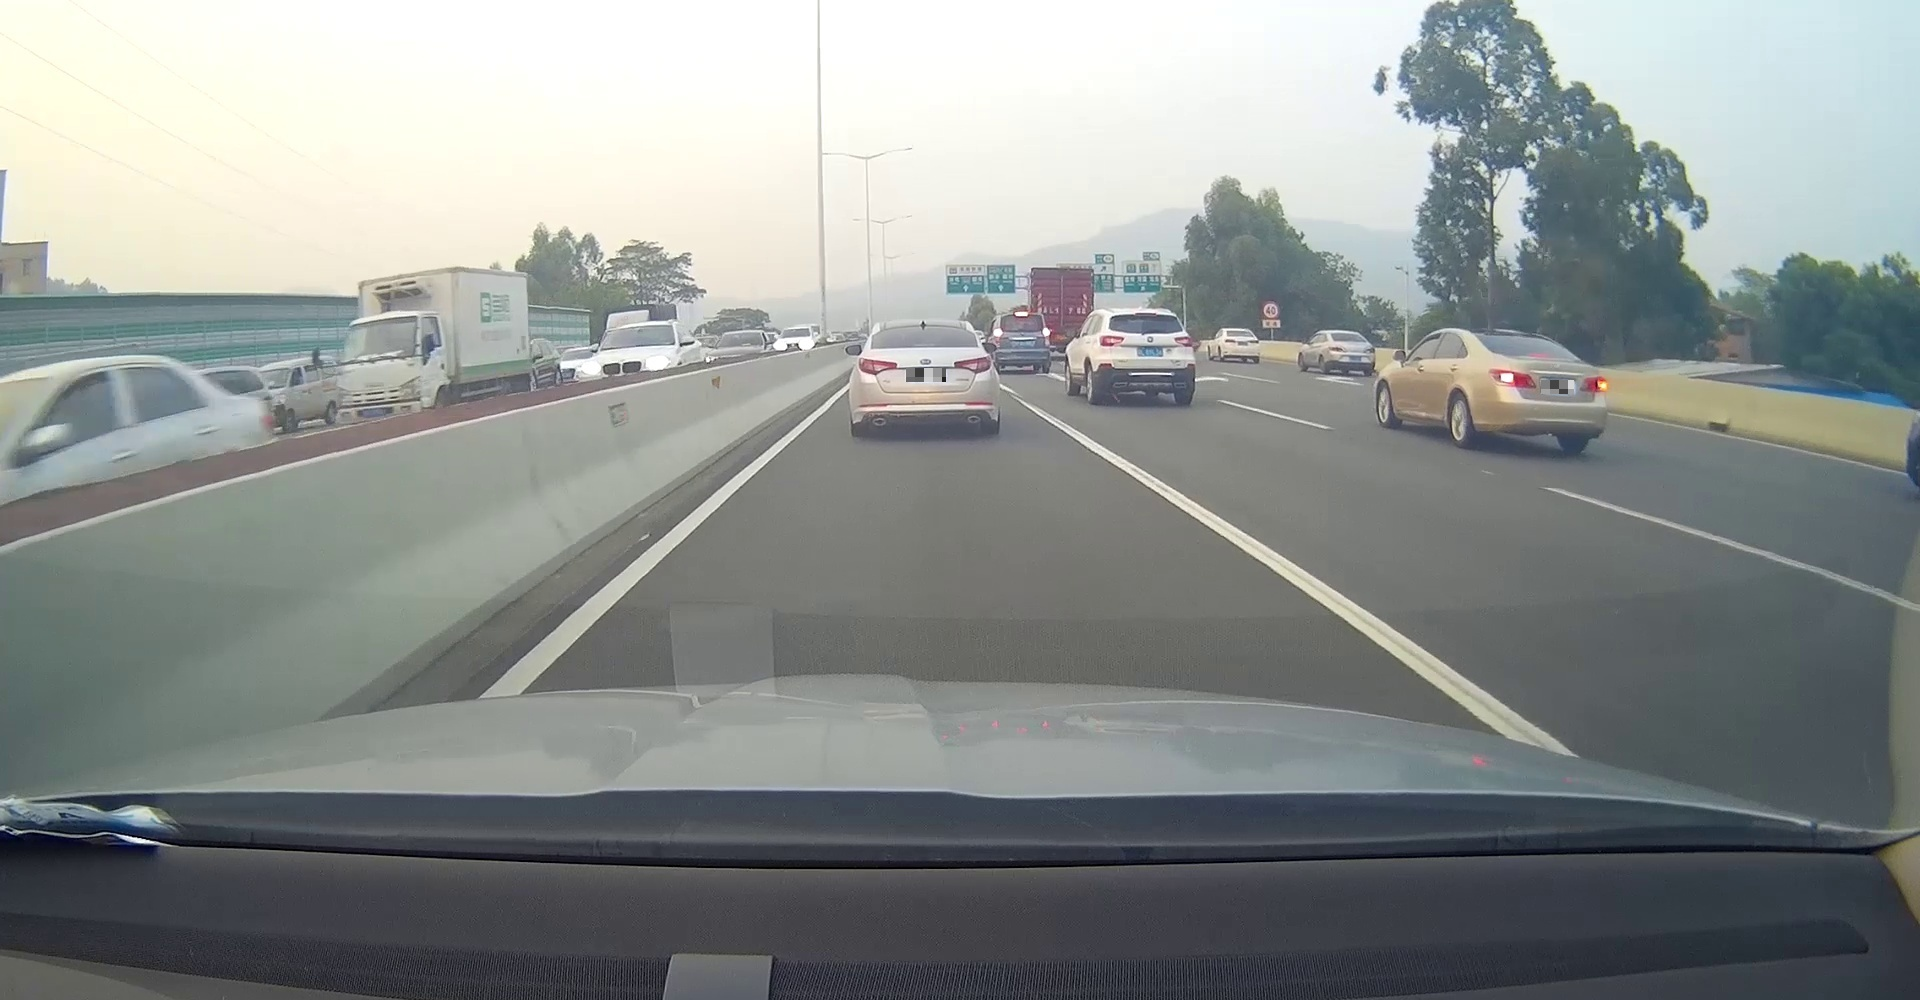L_light: (1490, 369, 1537, 390), (858, 357, 898, 376), (1098, 335, 1126, 348), (1328, 346, 1345, 352)
R_light: (954, 353, 993, 376), (1578, 374, 1608, 391), (1175, 335, 1192, 346), (1363, 346, 1375, 353)
T_light: (1528, 353, 1549, 358), (914, 341, 935, 346), (1135, 312, 1156, 316), (1343, 334, 1349, 335)
day-brake: (1472, 327, 1608, 453)
day-no: (850, 319, 1001, 437), (1095, 308, 1195, 406), (1327, 330, 1377, 377)
plate_1: (905, 368, 946, 382)
plate_2: (1542, 379, 1575, 393)
